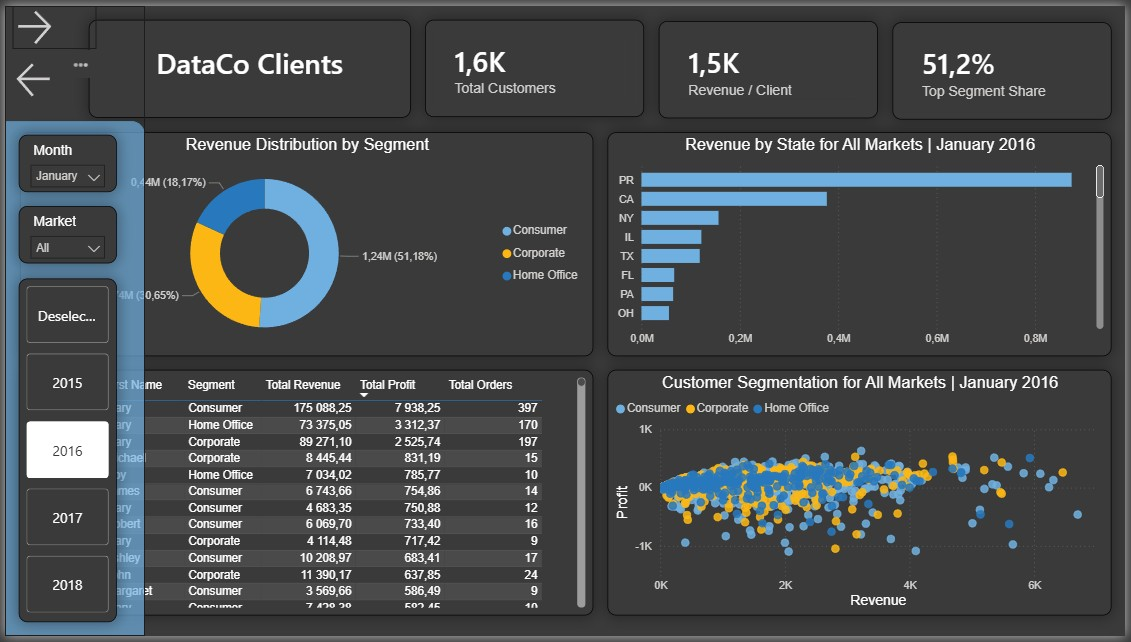

Layout of this report page (visuals, bound fields, positions):
{"tool":"powerbi","page":{"name":"Clients","canvas":[1280,720],"ordinal":2},"visuals":[{"type":"cardVisual","fields":{"Data":["_Measures.Top Segment Share %"]},"box":[1014.3,18.1,250.4,111.3],"z":1000},{"type":"cardVisual","fields":{"Data":["_Measures.Total Customers"]},"box":[480.1,16,250,111],"z":3000},{"type":"cardVisual","fields":{"Data":["_Measures.AVG Revenue per Customer"]},"box":[747.2,16.7,250,111.3],"z":4000},{"type":"actionButton","box":[7.9,59.4,96,49.1],"z":4000,"group":"g1"},{"type":"actionButton","box":[7.9,0,96,49.1],"z":5000,"group":"g1"},{"type":"tableEx","fields":{"Values":["Dim_Customer.Customer_Lname","Dim_Customer.Customer_Fname","Dim_Customer.Customer_Segment","_Measures.Total Revenue","_Measures.Total Profit","_Measures.Total Orders"]},"box":[16.7,416,655.3,281],"z":5000},{"type":"donutChart","title":"Revenue Distribution by Segment","fields":{"Category":["Dim_Customer.Customer_Segment"],"Y":["_Measures.Total Revenue"]},"box":[16.7,144.7,655.3,256],"z":6000},{"type":"clusteredBarChart","fields":{"Category":["Dim_Customer.Customer_State"],"Y":["_Measures.Total Revenue"]},"box":[688.7,144.7,576,256],"z":7000},{"type":"textbox","box":[95,16,368,112],"z":7500},{"type":"group","id":"g1","title":"Filter Pane","box":[0,0,160,720],"z":8000},{"type":"scatterChart","fields":{"Category":["Dim_Customer.Customer_Id"],"X":["_Measures.Total Revenue"],"Y":["_Measures.Total Profit"],"Series":["Dim_Customer.Customer_Segment"]},"box":[688.7,416,576,281],"z":10000}]}

Visuals, with their boxes on the page's 1280x720 design canvas (x1, y1, x2, y2). These are canvas units, not pixel positions in the 1131x642 screenshot, which may show the page scaled, cropped or inside an application window:
cardVisual - _Measures.Top Segment Share %: x1=1014, y1=18, x2=1265, y2=129
cardVisual - _Measures.Total Customers: x1=480, y1=16, x2=730, y2=127
cardVisual - _Measures.AVG Revenue per Customer: x1=747, y1=17, x2=997, y2=128
actionButton: x1=8, y1=59, x2=104, y2=108
actionButton: x1=8, y1=0, x2=104, y2=49
tableEx - Dim_Customer.Customer_Lname x Dim_Customer.Customer_Fname: x1=17, y1=416, x2=672, y2=697
"Revenue Distribution by Segment" donutChart: x1=17, y1=145, x2=672, y2=401
clusteredBarChart - Dim_Customer.Customer_State x _Measures.Total Revenue: x1=689, y1=145, x2=1265, y2=401
textbox: x1=95, y1=16, x2=463, y2=128
"Filter Pane" group: x1=0, y1=0, x2=160, y2=720
scatterChart - Dim_Customer.Customer_Id x _Measures.Total Revenue: x1=689, y1=416, x2=1265, y2=697
